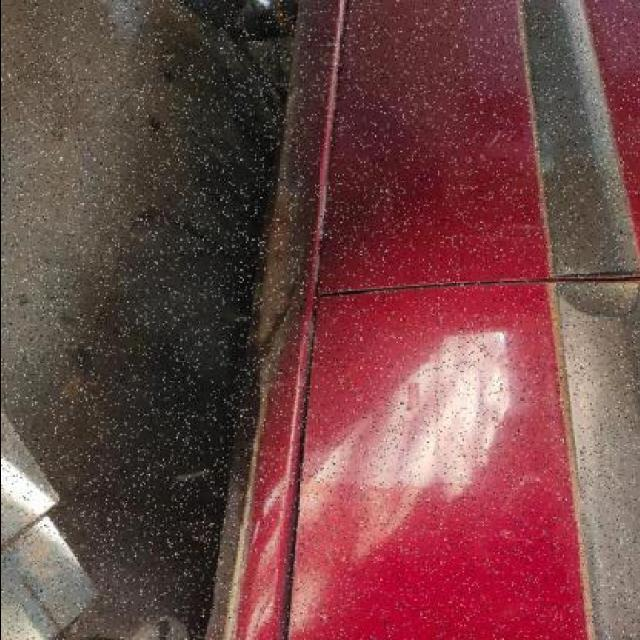RunningBoard-Dent: (201, 303, 325, 640), (234, 2, 351, 306)
